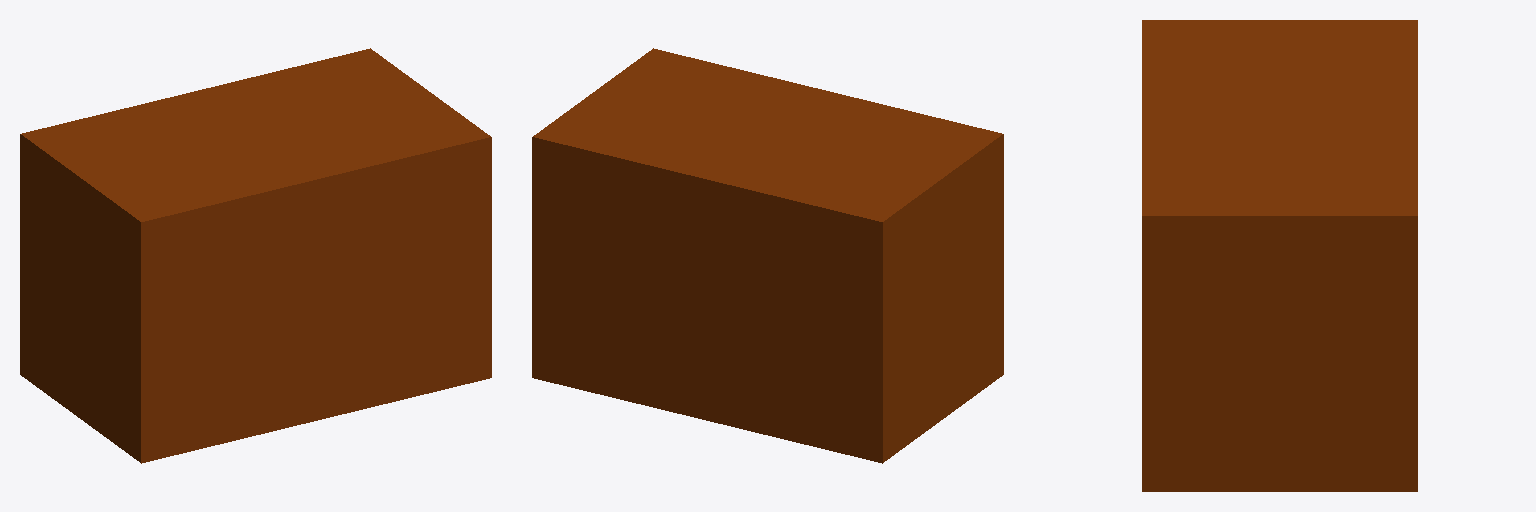
URDF robot description (handle_head):
<?xml version="1.0"?>
<robot name="handle_head">

  <link name="handle_head">
    <!-- Handle -->
    <visual>
      <origin xyz="0 0 0" rpy="0 0 0"/>
      <geometry>
        <box size="0.07932612141405992 0.04744298367351936 0.05221673779016281"/>
      </geometry>
      <material name="brown">
        <color rgba="0.55 0.27 0.07 1.0"/>
      </material>
    </visual>
    <collision>
      <origin xyz="0 0 0" rpy="0 0 0"/>
      <geometry>
        <box size="0.07932612141405992 0.04744298367351936 0.05221673779016281"/>
      </geometry>
    </collision>

    <inertial>
      <origin xyz="0 0 0" rpy="0 0 0"/>
      <mass value="0.079885939011253"/>
      <inertia ixx="3.3135518539526185e-05" iyy="6.0042413185896636e-05" izz="5.687526186773272e-05" ixy="0" ixz="0" iyz="0"/>
    </inertial>
  </link>

</robot>

--- Render facts (derived) ---
The picture shows the robot from 3 angles, left to right: view 1: azimuth 30°, elevation 25°; view 2: azimuth 150°, elevation 25°; view 3: azimuth 270°, elevation 25°; orthographic projection.
Robot: handle_head — 1 links, 0 joints (none); root link handle_head; default pose: every joint at zero.
Links seen in each view (by area): view 1: handle_head; view 2: handle_head; view 3: handle_head.
Boxes of the visible links, left/top/right/bottom form: handle_head: left=20, top=48, right=491, bottom=463; handle_head: left=532, top=48, right=1003, bottom=463; handle_head: left=1142, top=20, right=1417, bottom=491.
Bounding box of the posed robot: 0.0793 × 0.0474 × 0.0522 m (x, y, z).
Geometry: primitives only (box / cylinder / sphere), no mesh files.
